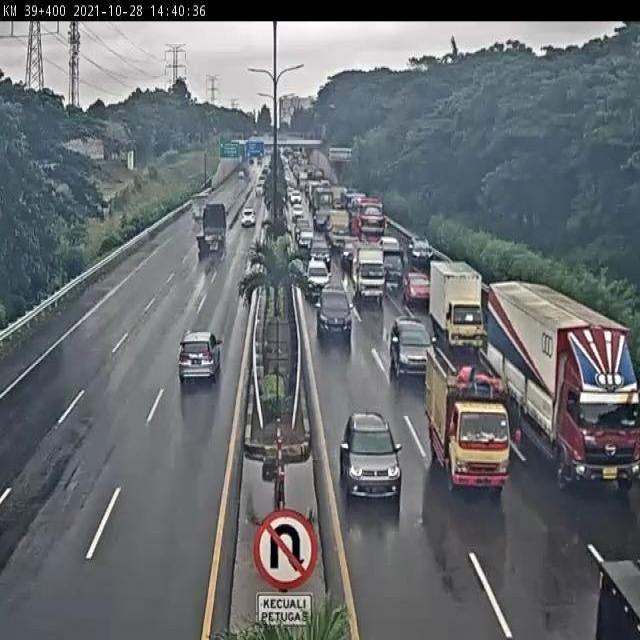big truck: (488, 284, 640, 485), (197, 203, 229, 256)
car: (338, 413, 400, 500), (387, 320, 435, 380), (314, 284, 353, 337), (177, 334, 220, 382), (401, 270, 435, 306), (382, 247, 408, 288), (306, 259, 334, 297), (239, 207, 257, 233)
small truck: (424, 344, 510, 488), (430, 262, 489, 350), (354, 240, 391, 305)
